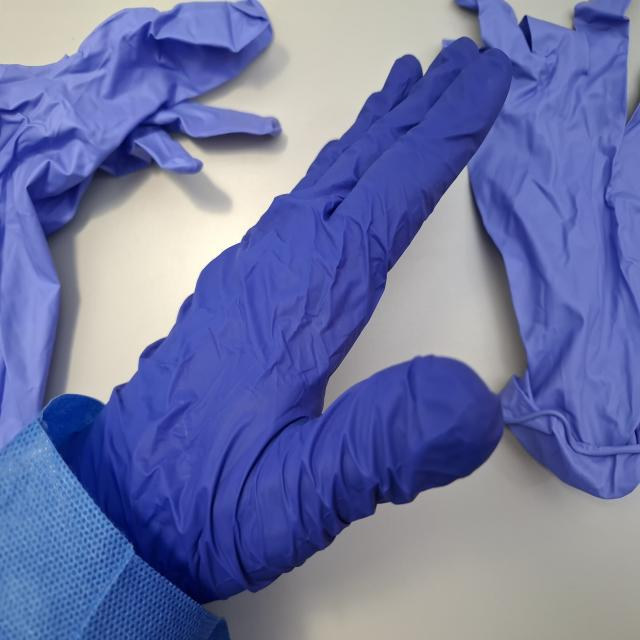glove_on: (68, 31, 518, 608)
